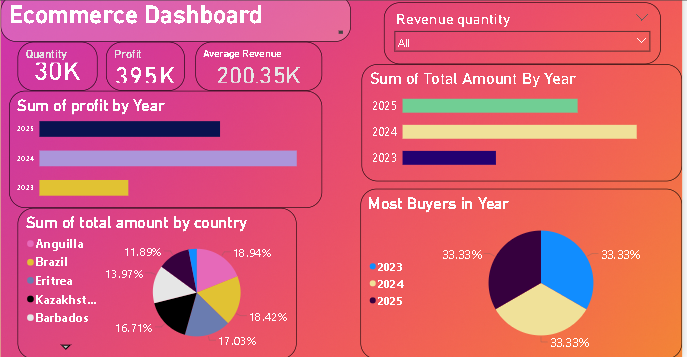

The dashboard page shown, as its layout file describes it:
{"tool":"powerbi","page":{"name":"Page 1","canvas":[1280,720],"ordinal":0},"visuals":[{"type":"textbox","title":"Ecommerce Dashboard","box":[0,36,658,88],"z":0},{"type":"donutChart","title":"Sum of total amount by country","fields":{"Category":["sales_view.country"],"Y":["Sum(sales_view.total_amount)"]},"box":[32,436,524,284],"z":1000},{"type":"barChart","title":"Sum of Total Amount By Year","fields":{"Category":["sales_view.order_date.Variation.Date Hierarchy.Year","sales_view.order_date.Variation.Date Hierarchy.Quarter","sales_view.order_date.Variation.Date Hierarchy.Month","sales_view.order_date.Variation.Date Hierarchy.Day"],"Y":["Sum(sales_view.total_amount)"]},"box":[678,166,602,220],"z":5000},{"type":"donutChart","title":"Most Buyers in Year","fields":{"Category":["sales_view.order_date.Variation.Date Hierarchy.Year"],"Y":["CountNonNull(customers.country)"]},"box":[676,400,604,320],"z":7000},{"type":"clusteredBarChart","fields":{"Category":["sales_view.order_date.Variation.Date Hierarchy.Year","sales_view.order_date.Variation.Date Hierarchy.Quarter","sales_view.order_date.Variation.Date Hierarchy.Month"],"Y":["Sum(sales_view.profit)"]},"box":[16,216,588,220],"z":7001},{"type":"card","title":"Quantity","fields":{"Values":["Sum(sales_view.quantity)"]},"box":[32,124,150,92],"z":7002},{"type":"card","title":"Profit","fields":{"Values":["Max(sales_view.profit)"]},"box":[198,124,148,92],"z":7003},{"type":"card","title":"Average Revenue","fields":{"Values":["Avg(sales_view.Revenue)"]},"box":[366,124,238,92],"z":7004},{"type":"slicer","fields":{"Values":["sales_view.Revenue","sales_view.quantity"]},"box":[720,50,520,116],"z":7005},{"type":"actionButton","box":[0,0,100,40],"z":7006}]}

Visuals, with their boxes in screenshot pixels (x1, y1, x2, y2):
"Ecommerce Dashboard" textbox: bbox=(75, 37, 386, 78)
"Sum of total amount by country" donutChart: bbox=(90, 226, 338, 356)
"Sum of Total Amount By Year" barChart: bbox=(396, 98, 680, 202)
"Most Buyers in Year" donutChart: bbox=(395, 209, 680, 356)
clusteredBarChart - sales_view.order_date.Variation.Date Hierarchy.Year x sales_view.order_date.Variation.Date Hierarchy.Quarter: bbox=(83, 122, 361, 226)
"Quantity" card: bbox=(90, 78, 161, 122)
"Profit" card: bbox=(169, 78, 239, 122)
"Average Revenue" card: bbox=(248, 78, 361, 122)
slicer - sales_view.Revenue x sales_view.quantity: bbox=(415, 43, 661, 98)
actionButton: bbox=(75, 20, 122, 39)
